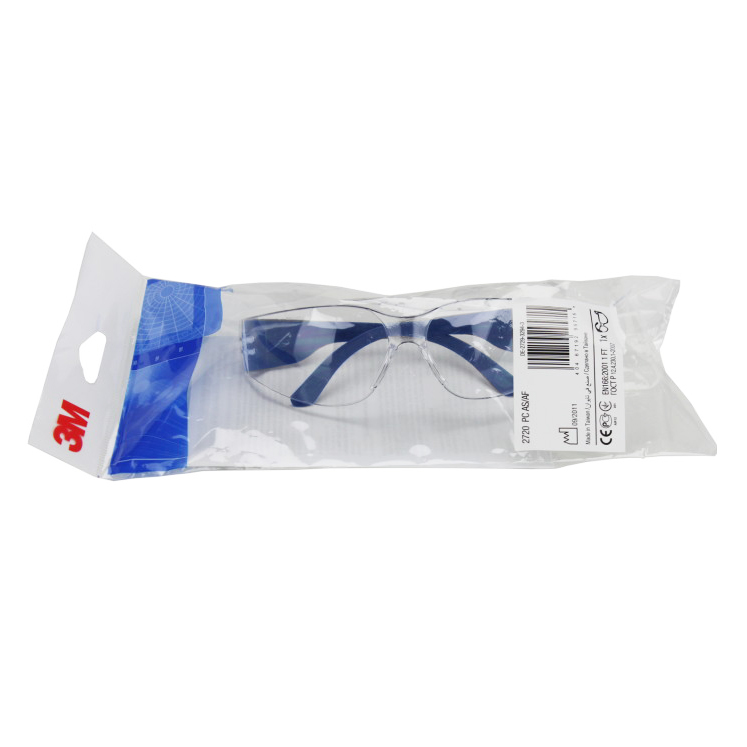3M: (47, 393, 95, 459)
